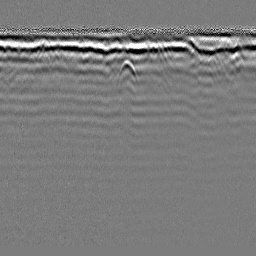cavity: (115, 57, 140, 82)
